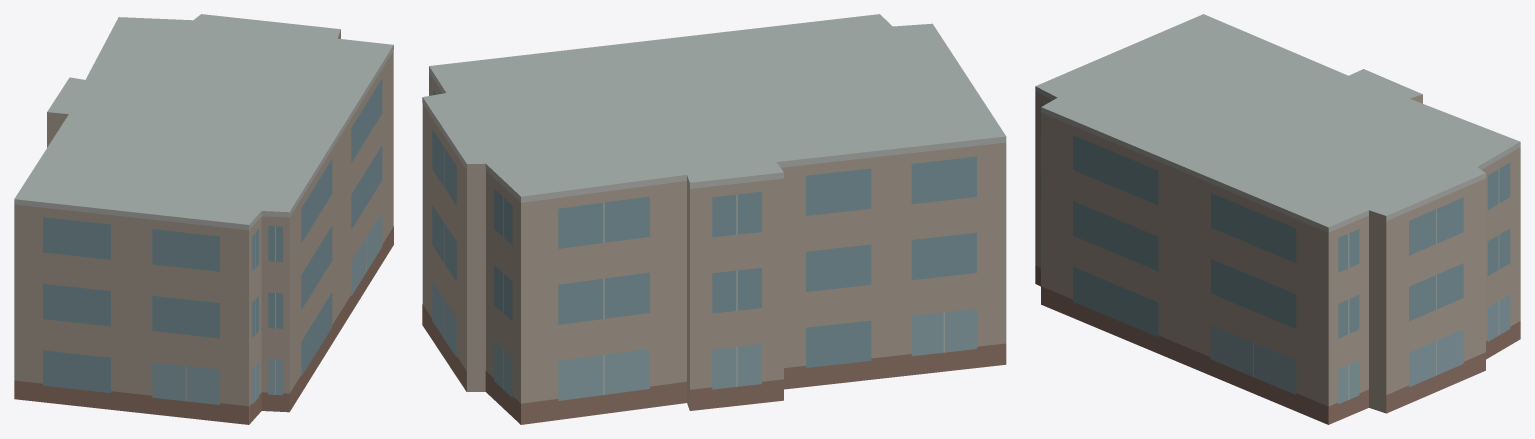
File: survey-upis-32590177.glb
The picture shows the model from 3 angles, left to right: view 1: azimuth 30°, elevation 25°; view 2: azimuth 150°, elevation 25°; view 3: azimuth 270°, elevation 25°; orthographic projection. The views are drawn at different scales.
Visible parts, largest first — view 1: survey-upis-32590177.tmp; view 2: survey-upis-32590177.tmp; view 3: survey-upis-32590177.tmp.
Part boxes in pixels (x1,y1,x2,y2): survey-upis-32590177.tmp: (14, 14, 393, 424); survey-upis-32590177.tmp: (422, 14, 1006, 424); survey-upis-32590177.tmp: (1035, 14, 1520, 424).
Bounding box in the file's own units: 21.21 × 9.15 × 20.38.
